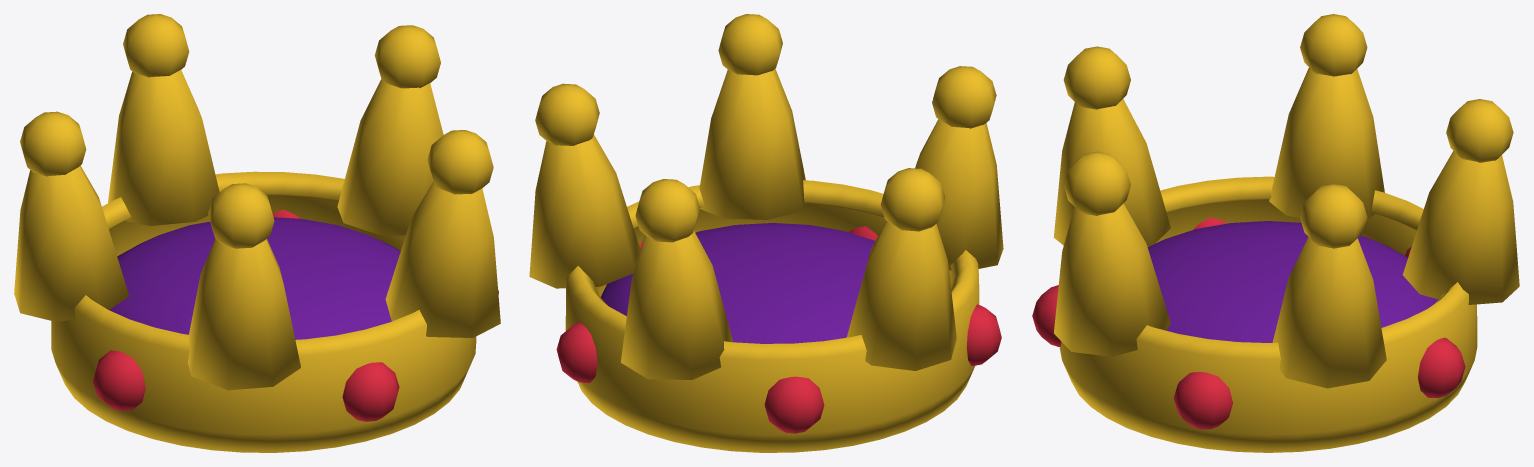
The model's file is cosmetics-crown.glb.
3 views of the same model, side by side, from view 1: azimuth 30°, elevation 25°; view 2: azimuth 150°, elevation 25°; view 3: azimuth 270°, elevation 25° (orthographic). The views are drawn at different scales.
Parts seen in each view (by area): view 1: Crown__Band, Crown__Velvet, Crown__Gems; view 2: Crown__Band, Crown__Velvet, Crown__Gems; view 3: Crown__Band, Crown__Velvet, Crown__Gems.
Part boxes in pixels (<box>): Crown__Band: <box>14,14,500,452</box>; Crown__Velvet: <box>109,217,400,339</box>; Crown__Gems: <box>93,209,498,421</box>; Crown__Band: <box>529,14,1003,452</box>; Crown__Velvet: <box>601,223,875,343</box>; Crown__Gems: <box>556,226,1001,433</box>; Crown__Band: <box>1053,14,1519,452</box>; Crown__Velvet: <box>1147,221,1438,342</box>; Crown__Gems: <box>1032,217,1465,429</box>.
Size of the model in its own units: 1.08 by 0.665 by 1.08.
